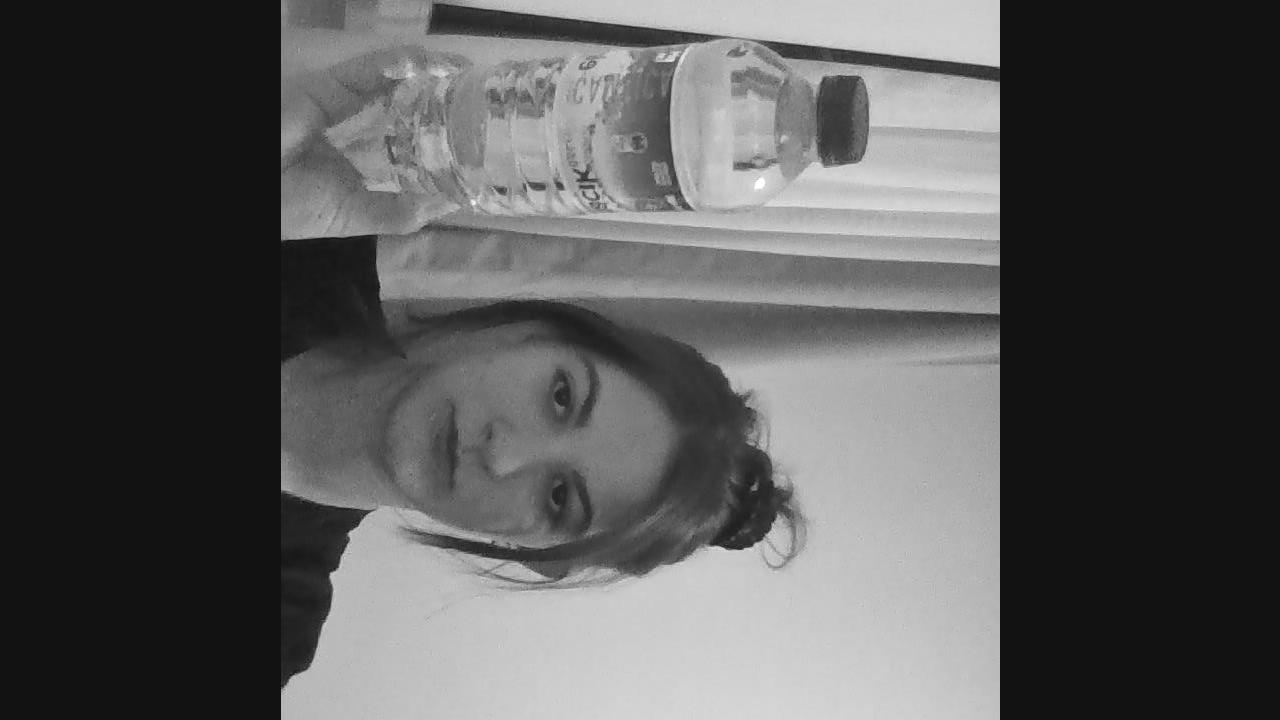bottle: (384, 53, 868, 214)
